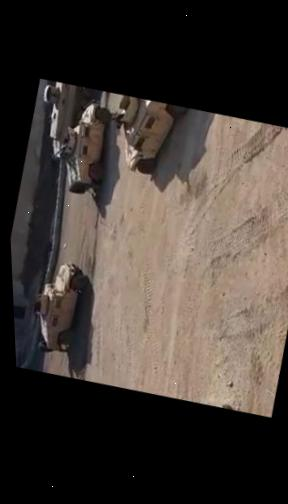armored_car: (104, 92, 193, 183), (46, 92, 120, 199), (21, 256, 93, 359)
